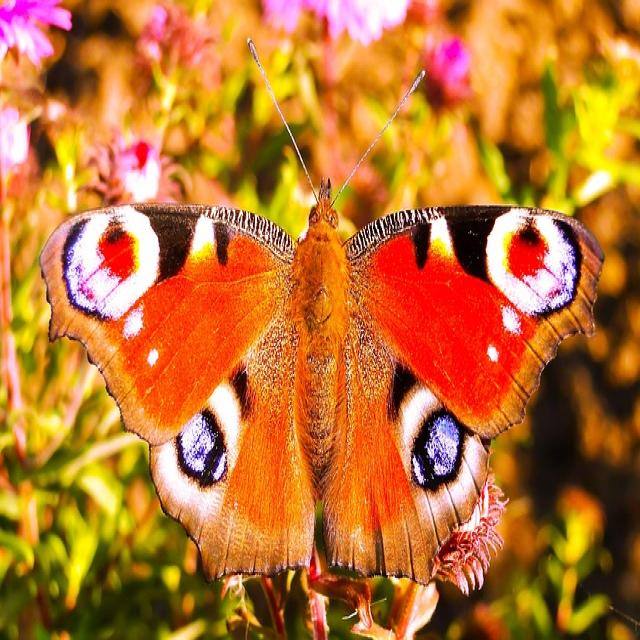butterfly: (39, 182, 605, 640)
